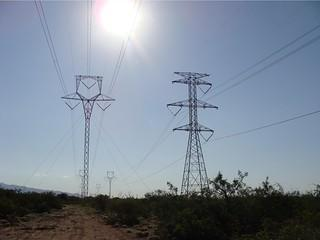power_tower: (165, 66, 225, 200), (59, 69, 117, 199)
